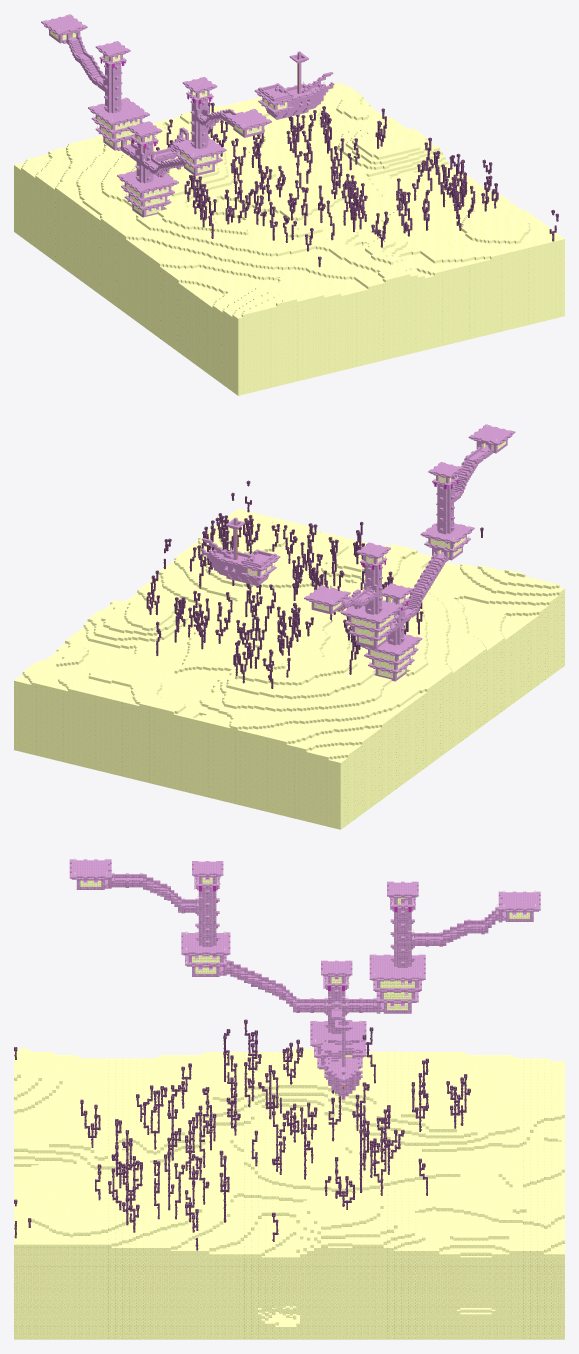
File: end_city.glb
3 views of the same model, one above another, from view 1: azimuth 30°, elevation 25°; view 2: azimuth 150°, elevation 25°; view 3: azimuth 270°, elevation 25° (orthographic). The views are drawn at different scales.
Visible parts, largest first — view 1: Object_11, Object_10, Object_12, Object_9, Object_20, Object_23, Object_6, Object_5, Object_21, Object_4, Object_13; view 2: Object_11, Object_10, Object_12, Object_9, Object_23, Object_20, Object_6, Object_5, Object_21, Object_4, Object_13; view 3: Object_9, Object_10, Object_12, Object_11, Object_20, Object_23, Object_5, Object_6, Object_4, Object_21, Object_13.
Part boxes in pixels (x1,y1,x2,y2): Object_11: (14,137,319,395); Object_10: (73,97,493,381); Object_12: (98,117,400,375); Object_9: (300,82,564,333); Object_20: (45,16,325,217); Object_23: (41,14,333,210); Object_6: (166,109,429,267); Object_5: (161,105,558,251); Object_21: (49,30,333,215); Object_4: (156,102,558,259); Object_13: (50,31,287,215); Object_11: (257,566,564,829); Object_10: (82,526,507,815); Object_12: (176,546,483,809); Object_9: (14,509,308,766); Object_23: (201,424,515,675); Object_20: (209,426,510,681); Object_6: (175,525,482,688); Object_5: (146,484,419,683); Object_21: (201,440,507,678); Object_4: (147,480,483,678); Object_13: (247,441,505,678); Object_9: (14,1198,564,1339); Object_10: (14,1076,564,1209); Object_12: (14,1089,564,1150); Object_11: (14,1048,564,1101); Object_20: (73,861,536,1096); Object_23: (69,859,540,1087); Object_5: (14,1038,469,1250); Object_6: (14,1024,464,1192); Object_4: (14,1019,470,1222); Object_21: (76,877,533,1099); Object_13: (80,877,529,1057).
Size of the model in its own units: 1.37 by 0.9897 by 1.63.
Materials: 18 (18 with a texture image).
